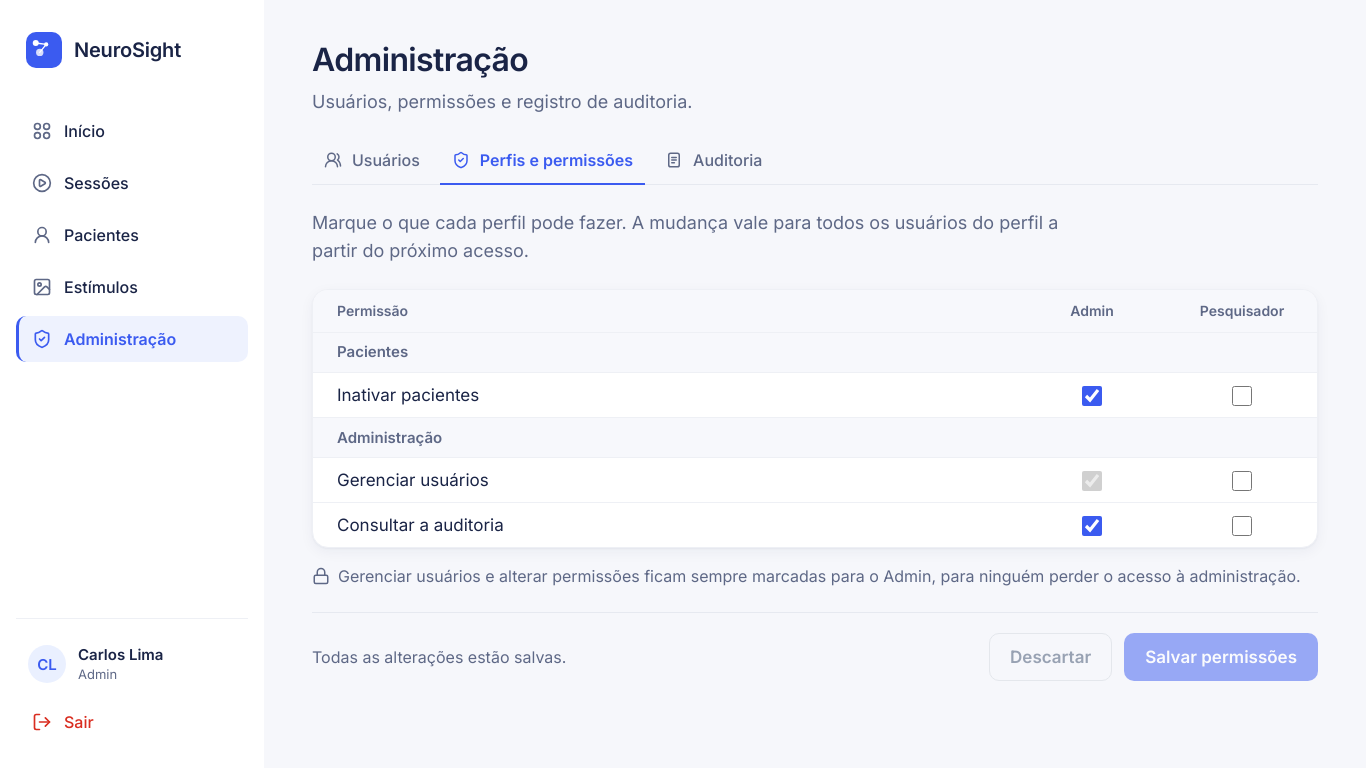
it: W21 Perfis e permissões › trava as do Admin, liga os botões só com mudanças e salva a matriz
Expected: the checkbox named "Admin: Gerenciar usuários (sempre marcada)" is checked, [1082,471,1102,491]
Expected: the checkbox named "Admin: Gerenciar usuários (sempre marcada)" is disabled, [1082,471,1102,491]
Click the checkbox named "Pesquisador: Consultar a auditoria".
click(1242, 526)  # box [1232,516,1252,536]
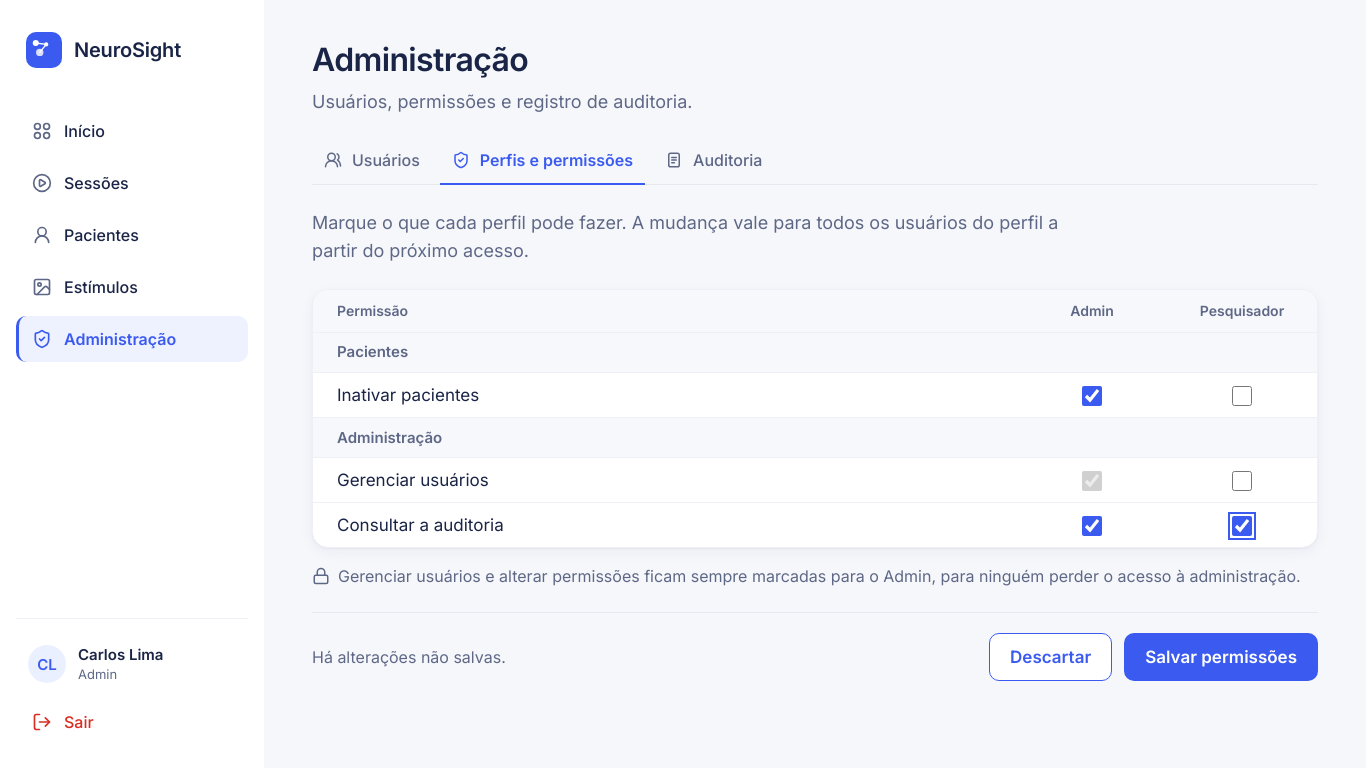
Now the text "Há alterações não salvas." is shown, box [312,645,506,669]
Click the button "Descartar".
click(1051, 657)  # box [989,633,1112,681]
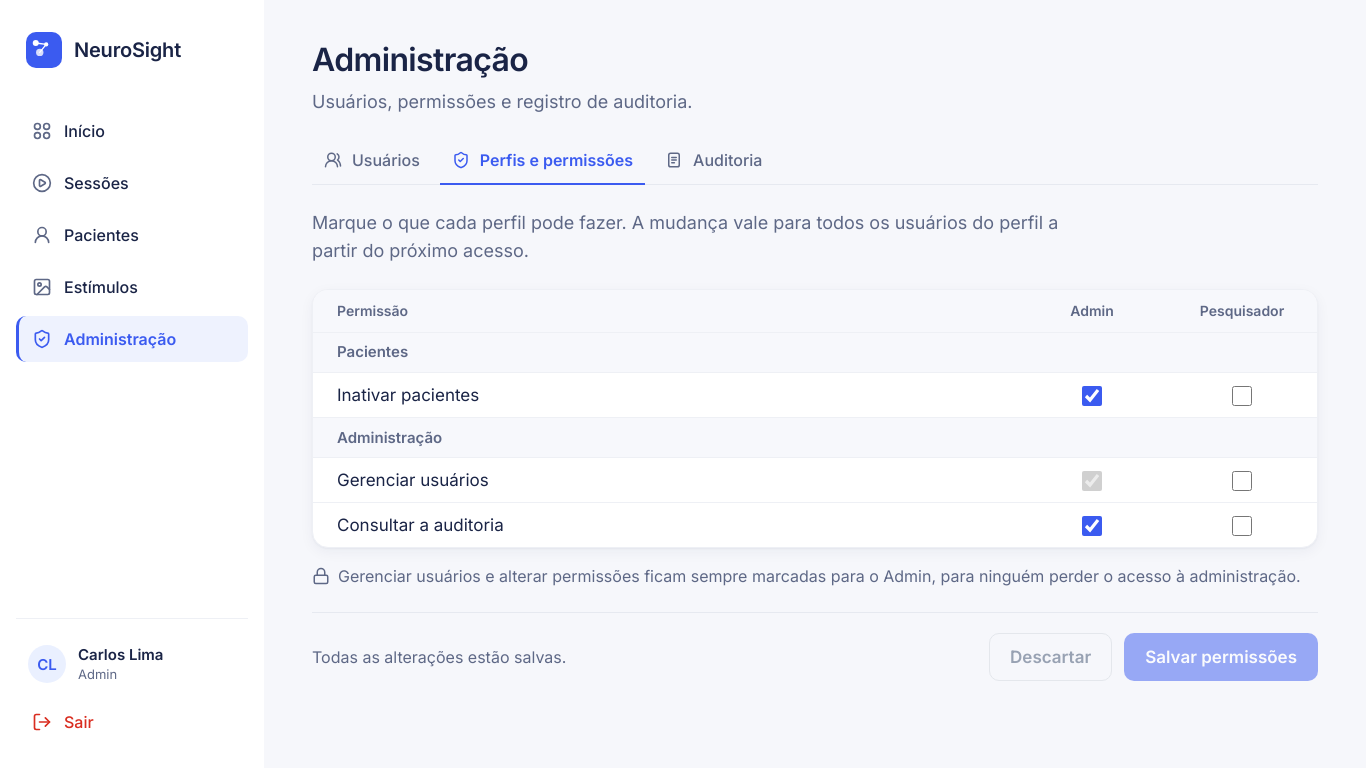
Now the checkbox named "Pesquisador: Consultar a auditoria" is not checked
Click the checkbox named "Pesquisador: Consultar a auditoria".
click(1242, 526)  # box [1232,516,1252,536]
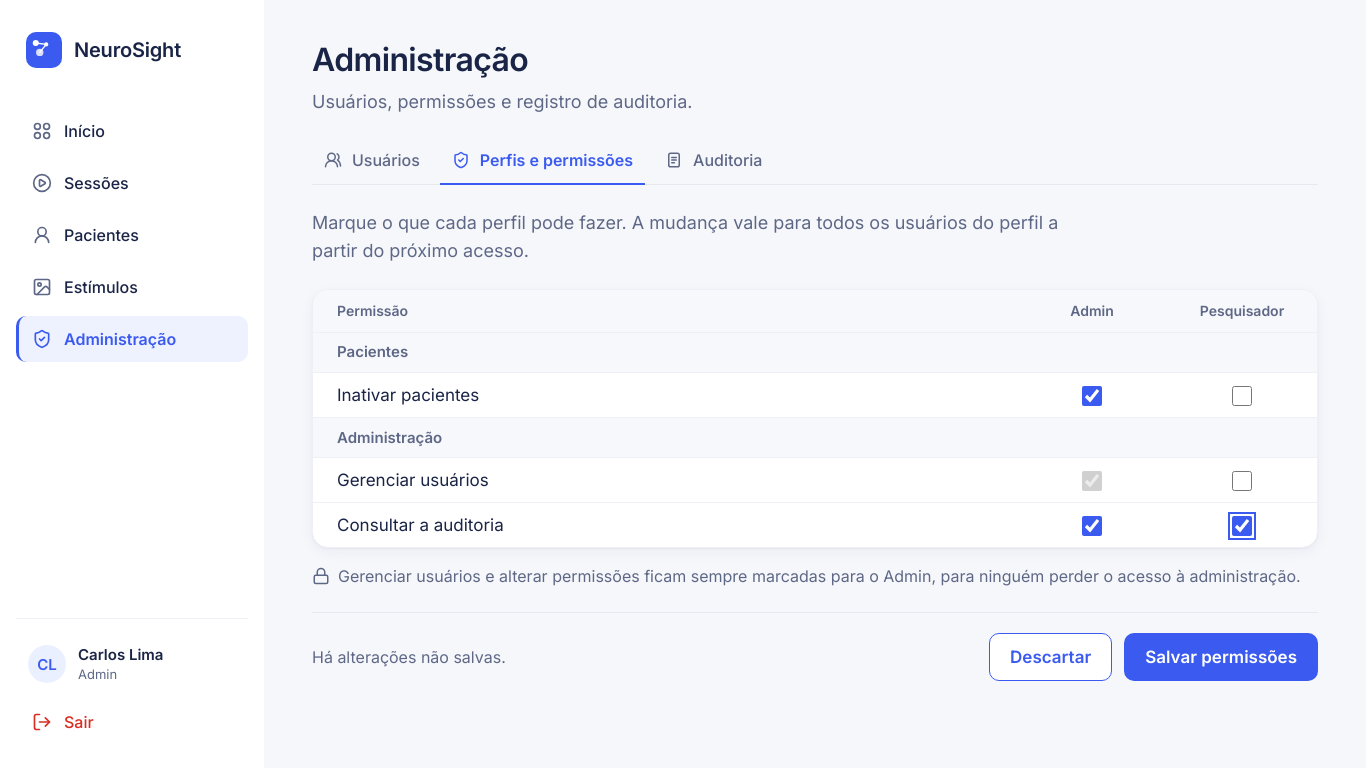
Click the button "Salvar permissões".
click(1221, 657)  # box [1124,633,1318,681]
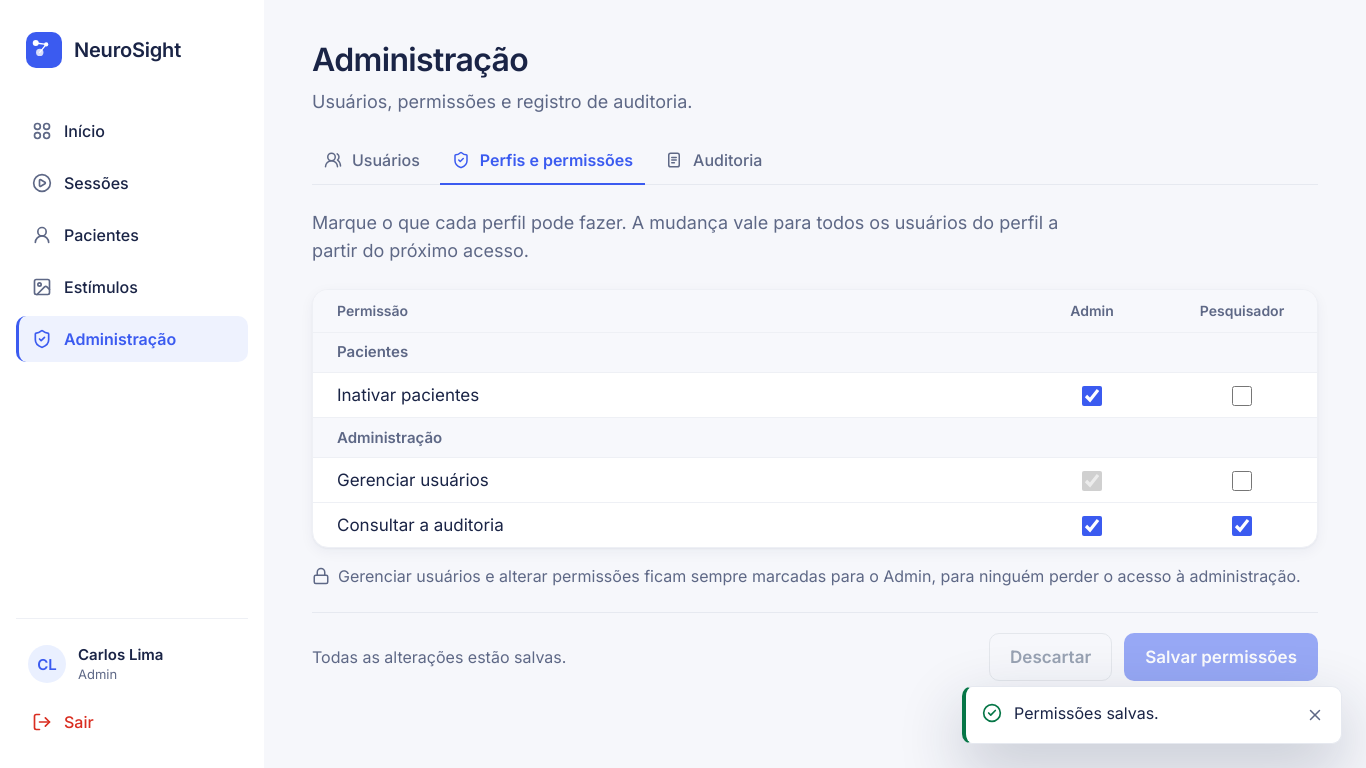
Now the text "Permissões salvas." is shown, box [1014,703,1159,723]
Now the text "Todas as alterações estão salvas." is shown, box [312,645,566,669]
